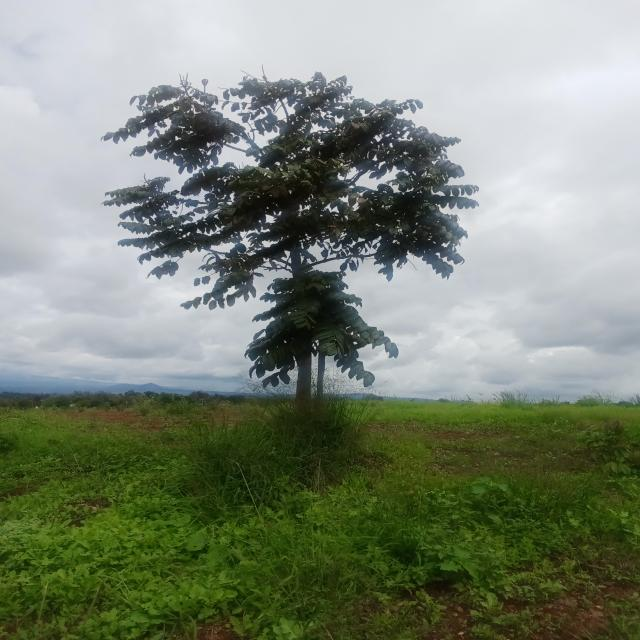Polyscias Kikuyensis: (81, 62, 552, 468)
